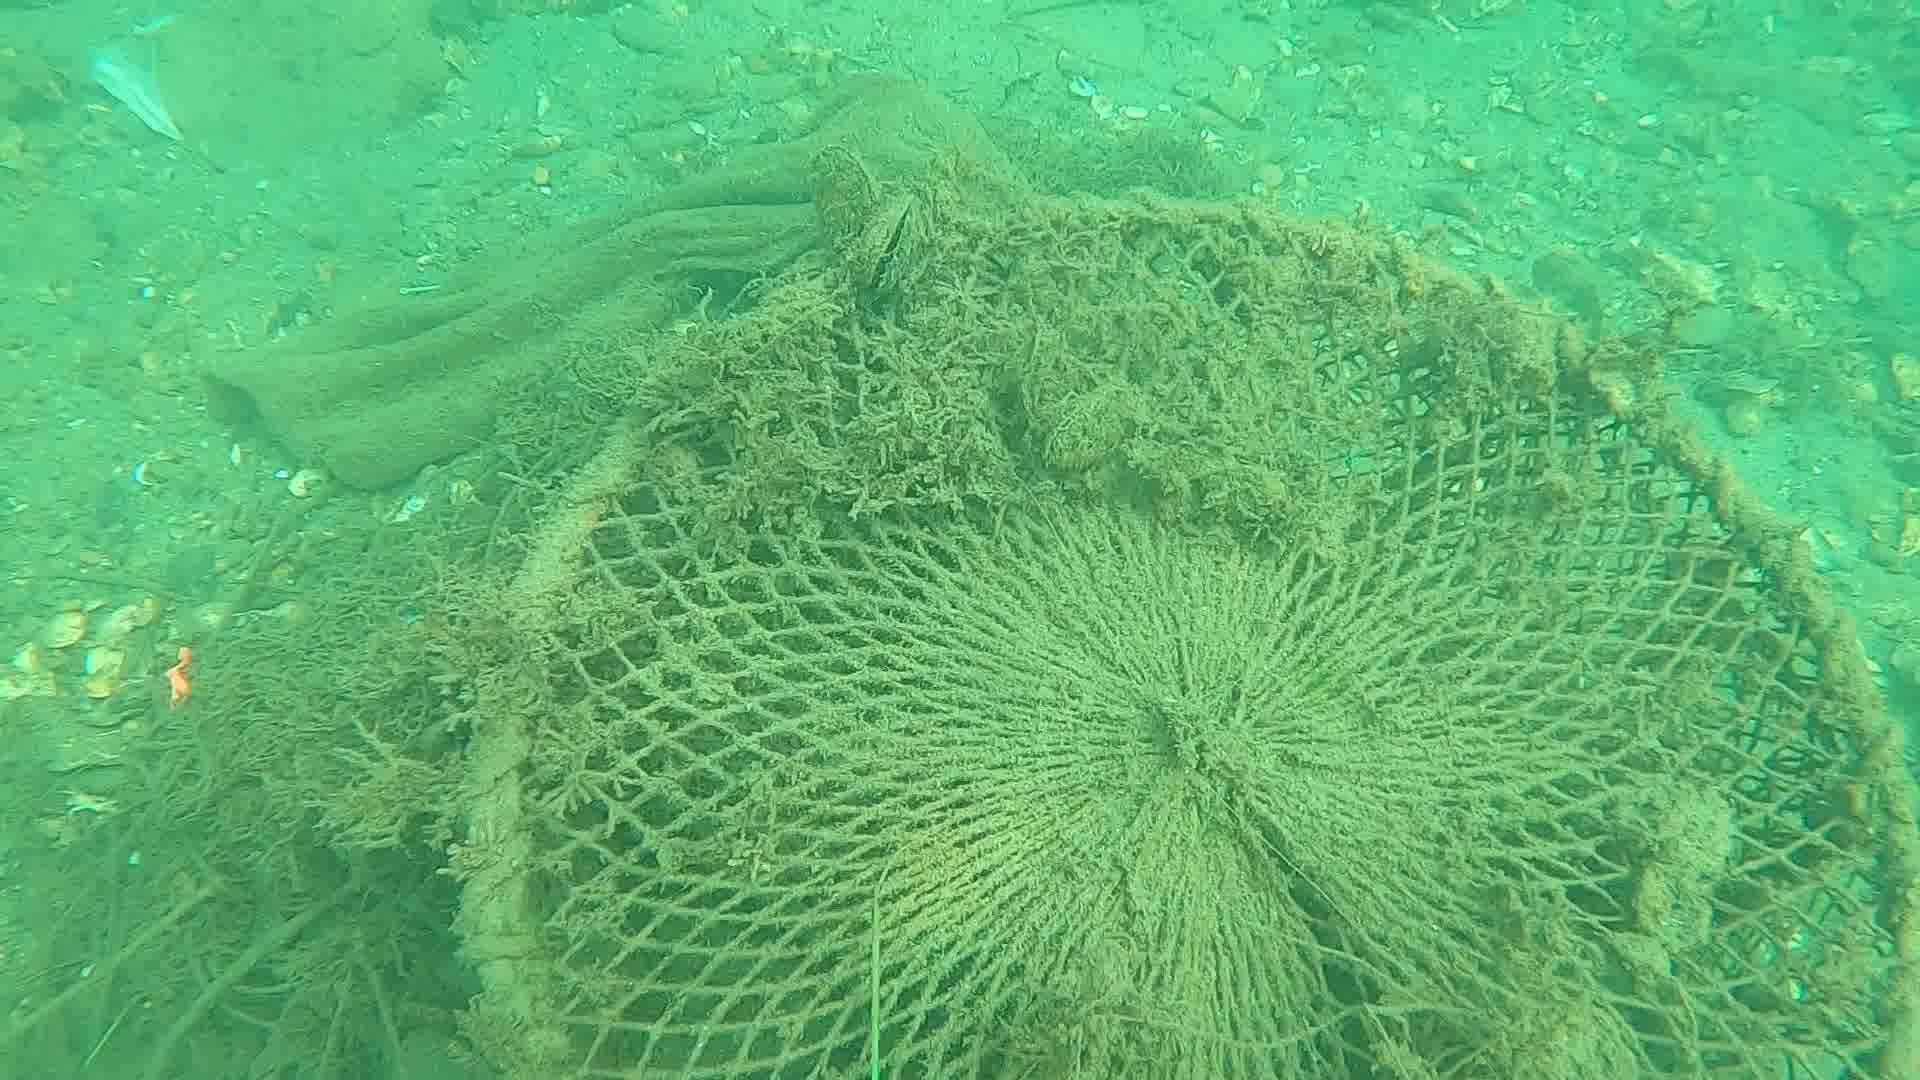circular fish trap: (447, 193, 1920, 1080)
